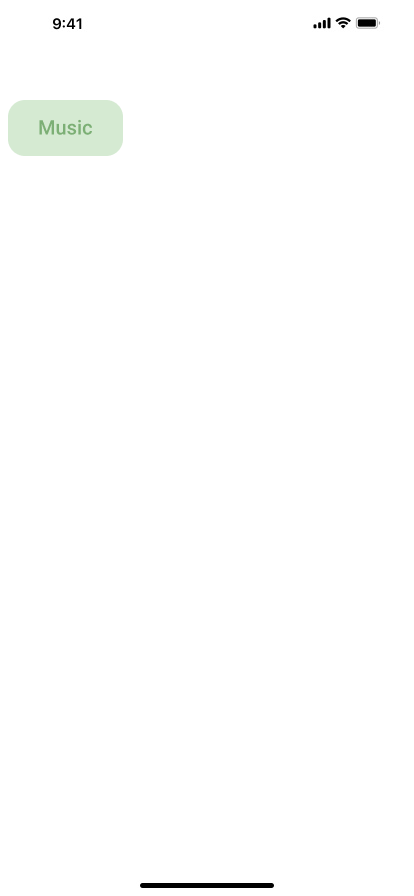Buttons: (8, 100, 131, 156)
Home Indicator: (0, 862, 414, 896)
Status Bar: (0, 0, 414, 44)
